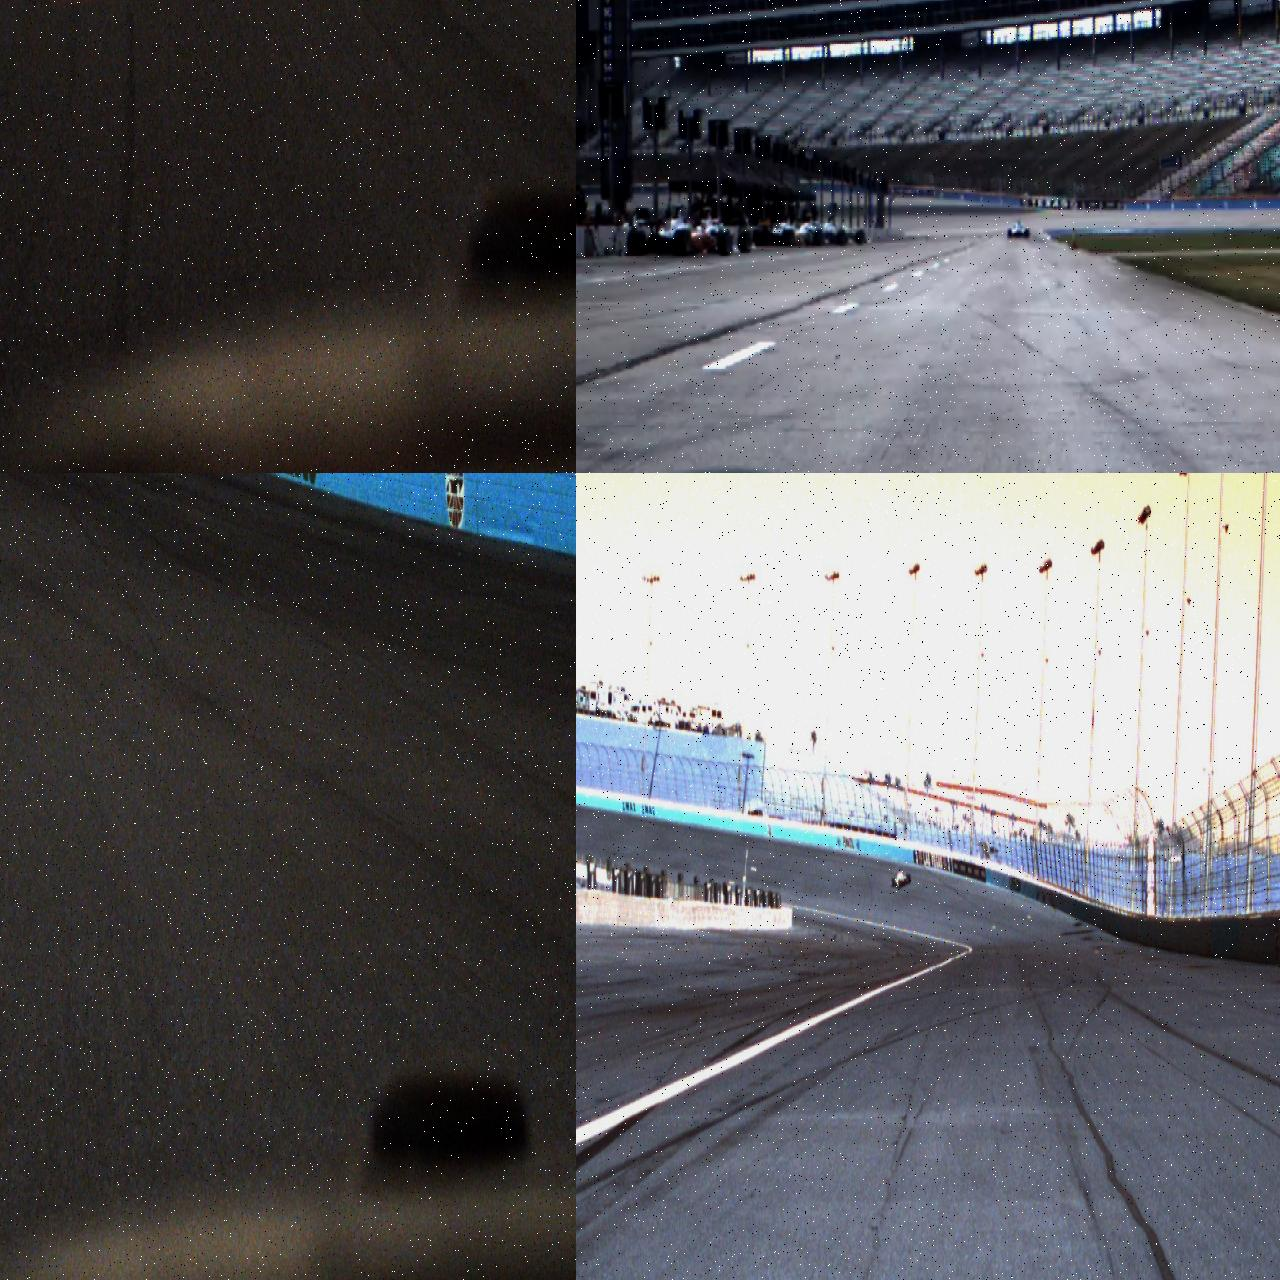AV: (628, 204, 733, 256), (1008, 220, 1030, 239), (890, 868, 910, 888)
Wheel: (628, 230, 646, 255), (674, 228, 690, 256), (718, 230, 734, 256), (739, 230, 751, 252), (783, 228, 794, 246), (838, 229, 848, 245), (814, 229, 822, 245), (856, 228, 864, 244), (1025, 228, 1029, 238), (1008, 228, 1012, 238), (906, 874, 910, 884), (898, 880, 902, 888), (891, 878, 894, 888)
